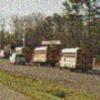buses: (59, 48, 92, 73)
